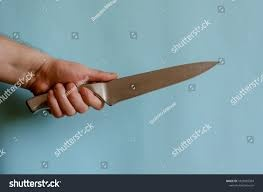knife: (25, 60, 218, 117)
